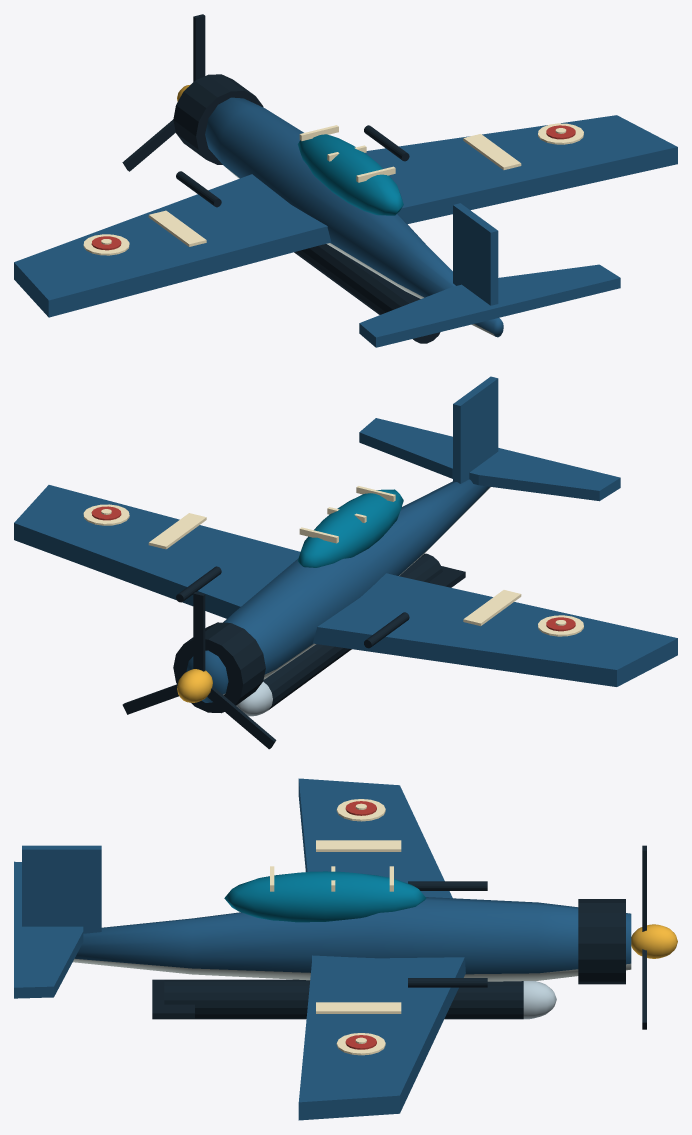
Rendered from torpedo.glb.
The picture shows the model from 3 angles, top to bottom: view 1: azimuth 30°, elevation 25°; view 2: azimuth 150°, elevation 25°; view 3: azimuth 270°, elevation 25°; orthographic projection. The views are drawn at different scales.
Parts seen in each view (by area): view 1: torpedo-torpedo-geometry, torpedo-propeller_00.010-geometry; view 2: torpedo-torpedo-geometry, torpedo-propeller_00.010-geometry; view 3: torpedo-torpedo-geometry, torpedo-propeller_00.010-geometry.
Boxes of the visible parts, x1,y1,x2,y2 form: torpedo-torpedo-geometry: (14, 74, 677, 347); torpedo-propeller_00.010-geometry: (122, 14, 205, 171); torpedo-torpedo-geometry: (14, 376, 677, 716); torpedo-propeller_00.010-geometry: (122, 592, 276, 749); torpedo-torpedo-geometry: (14, 778, 677, 1120); torpedo-propeller_00.010-geometry: (642, 845, 646, 1029).
Bounding box in the file's own units: 2.88 × 0.705 × 2.5.
